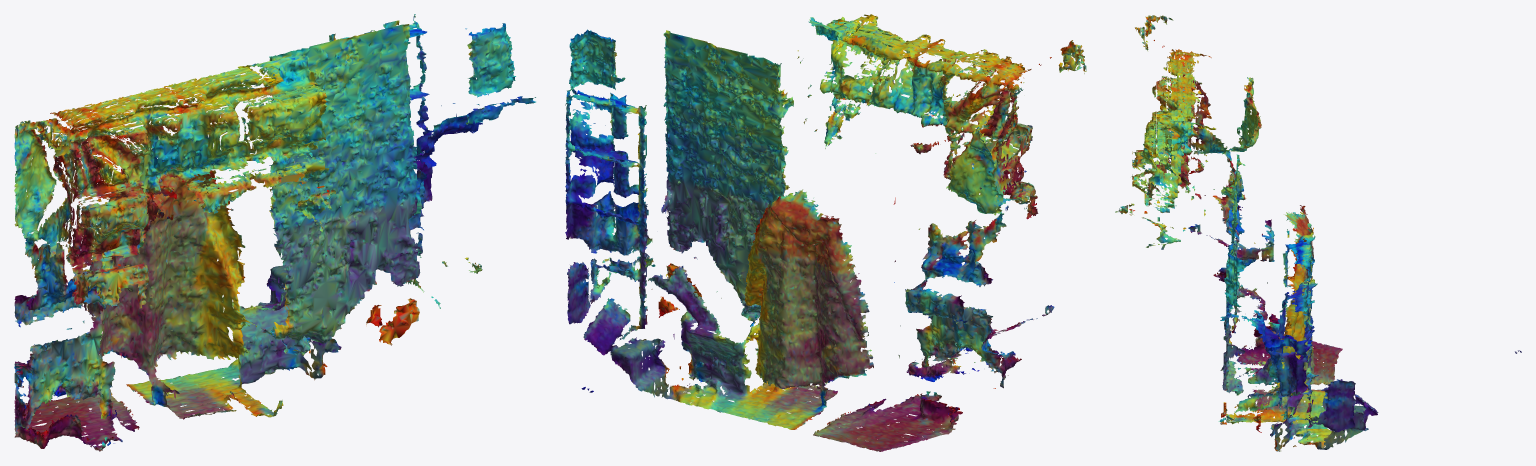
File: mesh_iter_0005.obj
The picture shows the model from 3 angles, left to right: view 1: azimuth 30°, elevation 25°; view 2: azimuth 150°, elevation 25°; view 3: azimuth 270°, elevation 25°; orthographic projection. The views are drawn at different scales.
Bounding box in the file's own units: 3.04 × 2.15 × 2.57.
